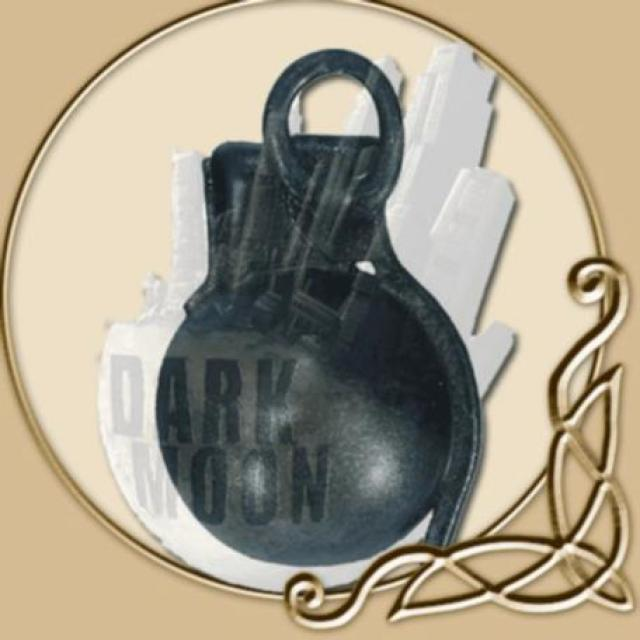grenade: (155, 49, 485, 570)
